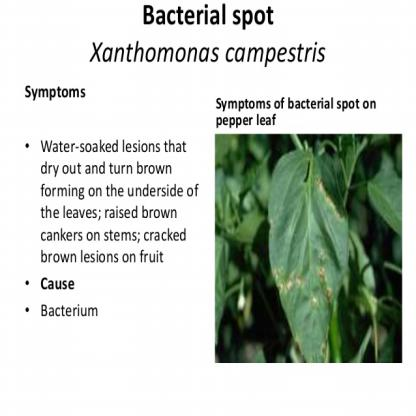bell pepper leaf spot: (267, 149, 357, 361)
